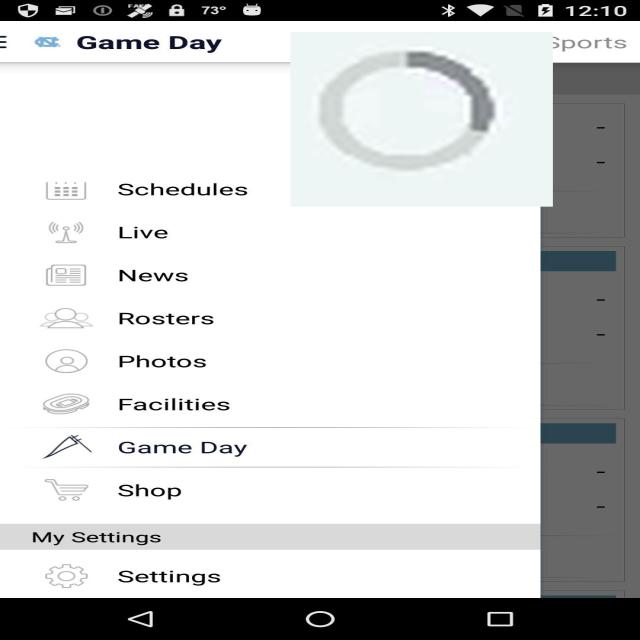misdirection: (290, 32, 553, 207)
